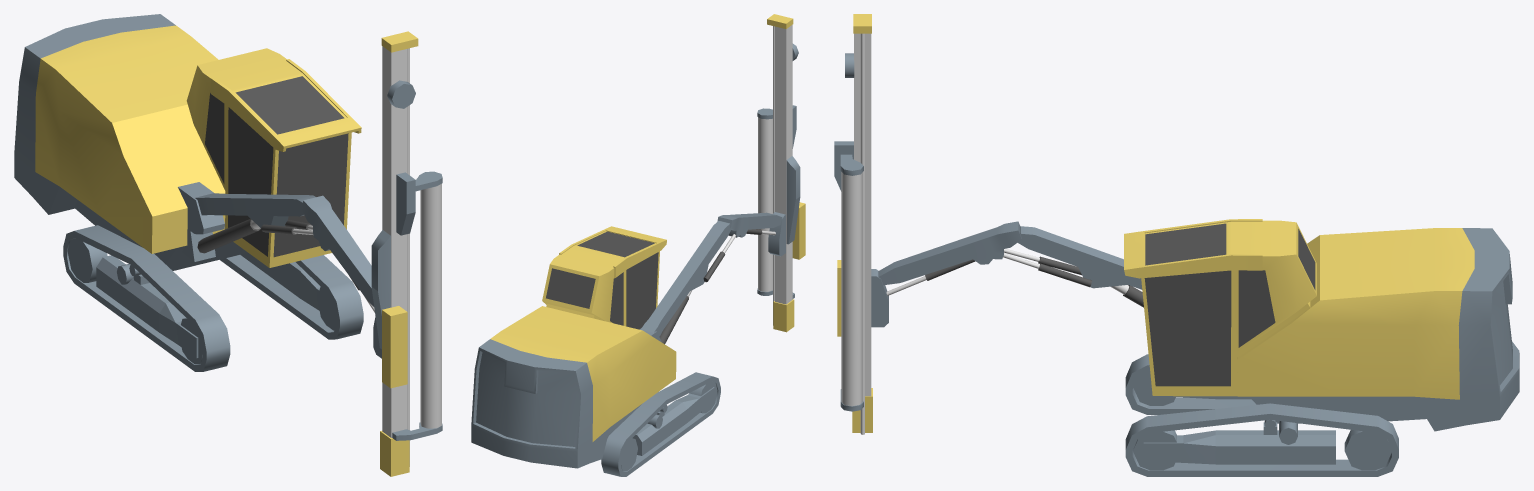
The picture shows the model from 3 angles, left to right: view 1: azimuth 30°, elevation 25°; view 2: azimuth 150°, elevation 25°; view 3: azimuth 270°, elevation 25°; orthographic projection. The views are drawn at different scales.
Visible parts, largest first — view 1: T45; view 2: T45; view 3: T45.
Part boxes in pixels (x1,y1,x2,y2): T45: (14,14,442,476); T45: (471,14,805,476); T45: (834,14,1519,476).
Bounding box in the file's own units: 2.14 × 5.56 × 8.41.
